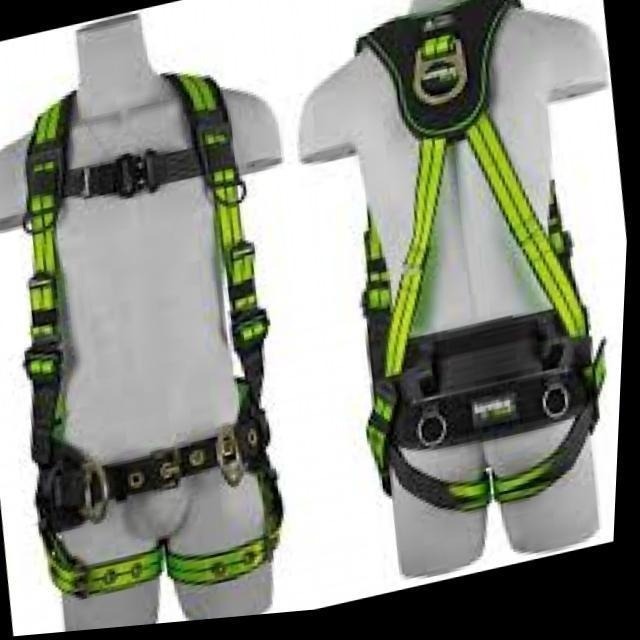Arnes_seguridad: (18, 68, 283, 600), (333, 5, 606, 500)
